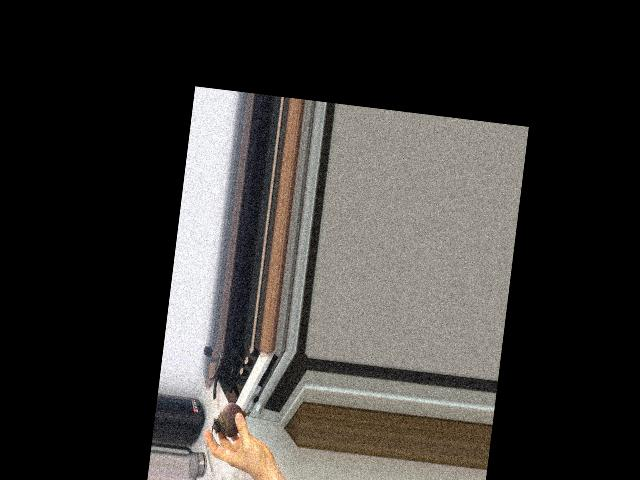beet: (210, 400, 252, 448)
